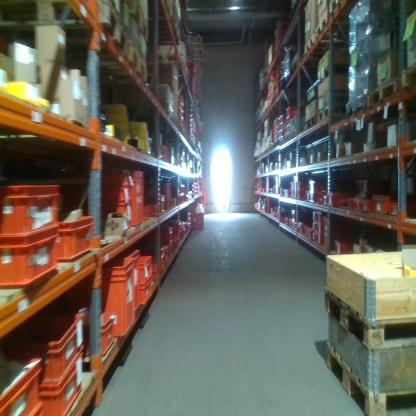pallet: (326, 341, 416, 414), (323, 286, 416, 350), (365, 72, 402, 110), (104, 5, 129, 51), (317, 102, 352, 126), (316, 62, 348, 83), (132, 44, 147, 81), (317, 15, 330, 45), (401, 65, 416, 90), (329, 2, 347, 21), (303, 35, 315, 57), (304, 111, 317, 131), (158, 54, 177, 64)
small_load_carrier: (71, 256, 136, 337), (10, 311, 82, 383), (0, 228, 56, 290), (1, 182, 58, 235), (80, 312, 119, 363), (40, 365, 81, 412), (56, 212, 91, 263), (10, 354, 38, 412), (96, 204, 133, 233), (88, 169, 135, 190), (129, 169, 145, 230), (89, 186, 133, 205), (373, 194, 391, 219), (136, 255, 152, 282), (139, 280, 154, 304), (329, 192, 348, 209), (334, 238, 351, 253), (309, 181, 324, 195), (313, 230, 326, 246), (361, 199, 374, 213), (312, 209, 326, 222), (390, 199, 398, 219), (304, 225, 313, 241), (313, 221, 327, 230), (309, 192, 318, 205), (296, 181, 306, 192), (354, 198, 361, 210), (293, 210, 300, 222), (349, 198, 355, 211), (324, 196, 331, 207), (319, 192, 325, 203), (296, 190, 303, 198), (290, 182, 294, 196), (299, 219, 303, 233), (289, 218, 292, 227)
